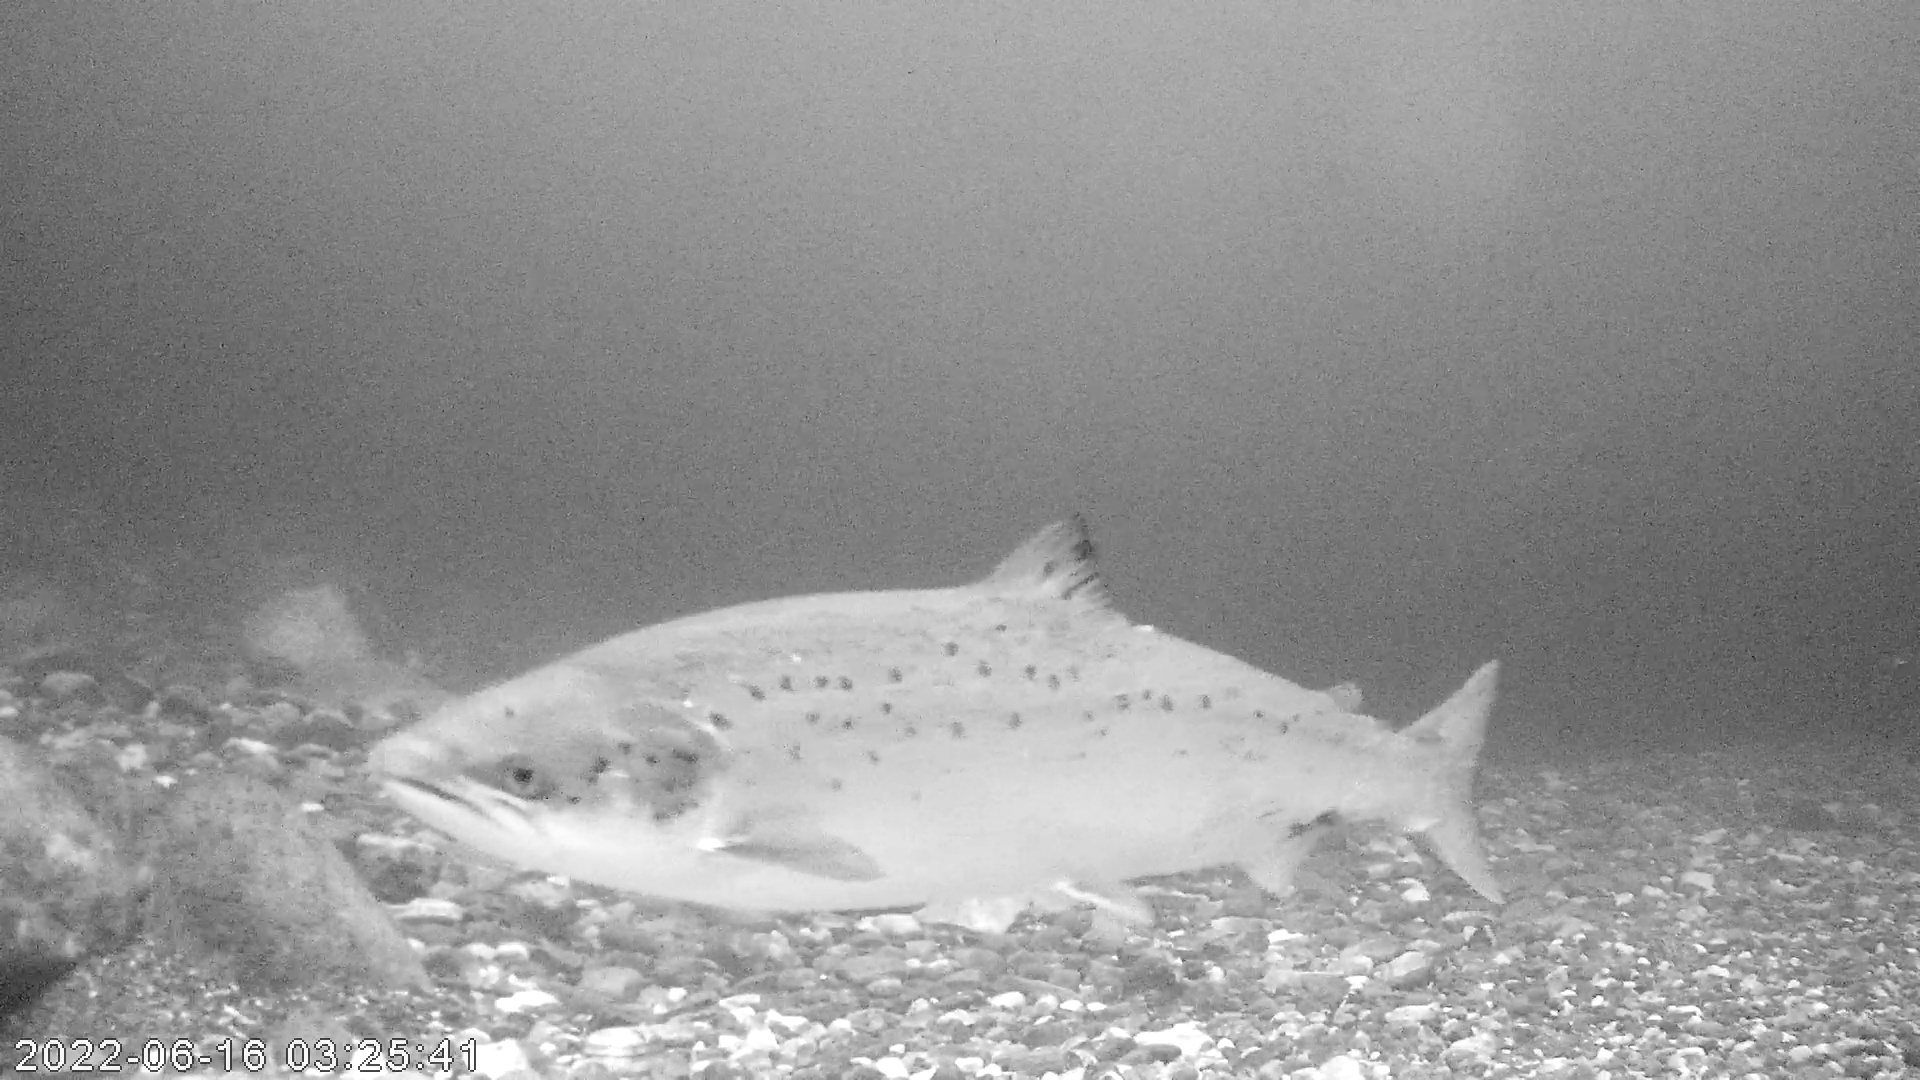salmon: (363, 512, 1509, 927)
